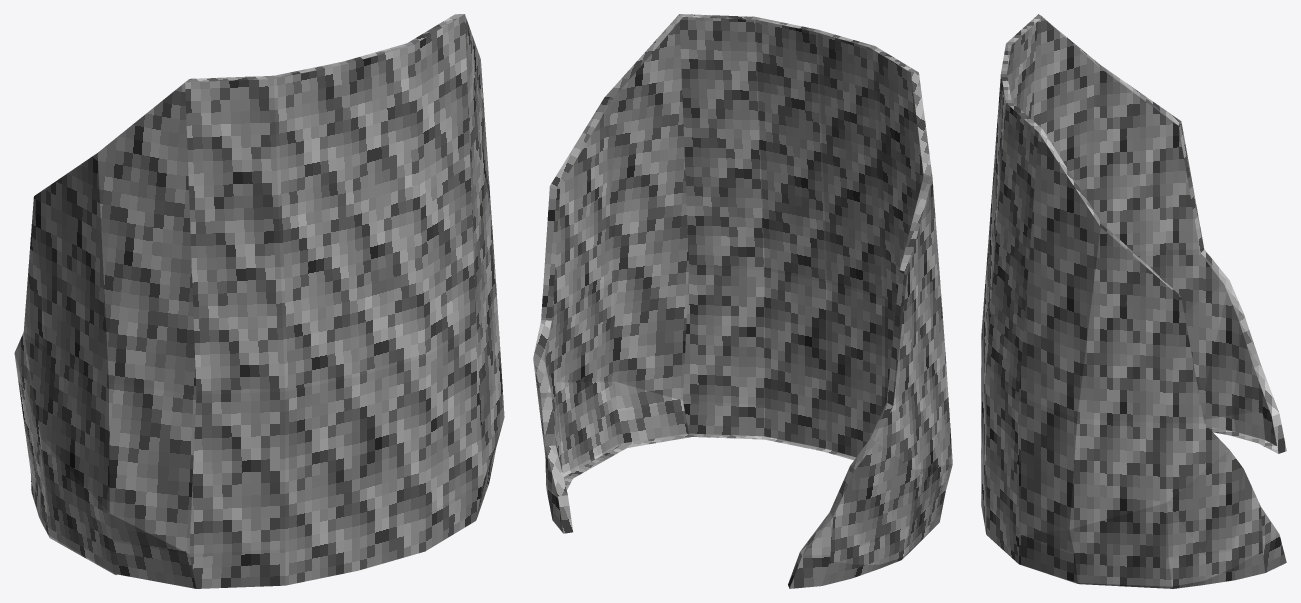
The model's file is cloak_medium_outside.obj.
3 views of the same model, side by side, from view 1: azimuth 30°, elevation 25°; view 2: azimuth 150°, elevation 25°; view 3: azimuth 270°, elevation 25° (orthographic). The views are drawn at different scales.
Parts seen in each view (by area): view 1: OutsideMesh_Plane.002; view 2: OutsideMesh_Plane.002; view 3: OutsideMesh_Plane.002.
Boxes of the visible parts, left/top/right/bottom form: OutsideMesh_Plane.002: left=14, top=14, right=504, bottom=588; OutsideMesh_Plane.002: left=533, top=14, right=952, bottom=588; OutsideMesh_Plane.002: left=981, top=14, right=1286, bottom=588.
Bounding box in the file's own units: 3 × 3.42 × 2.18.
